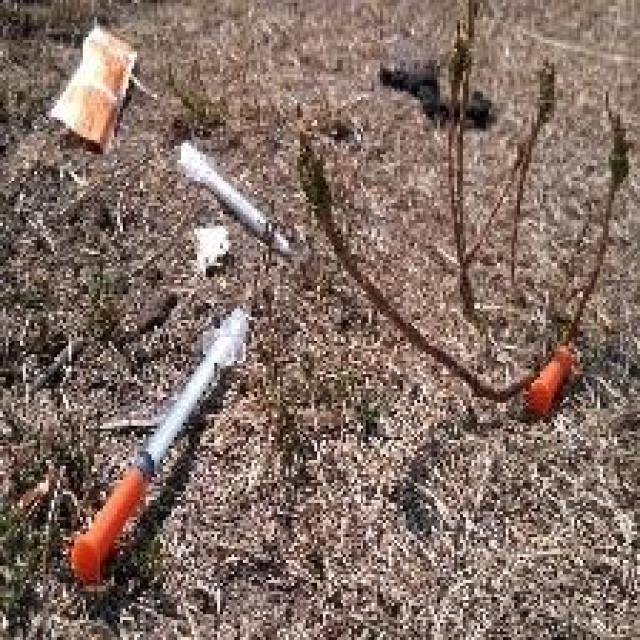syringe: (84, 321, 258, 588), (167, 119, 321, 280)
